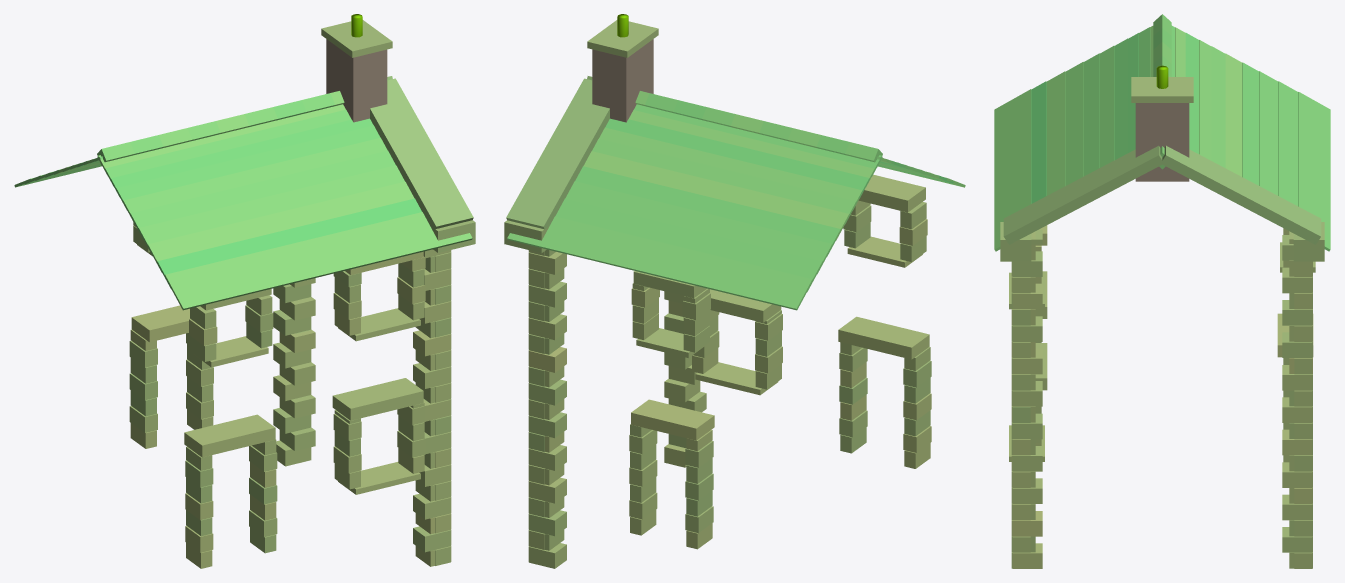
File: SM_Bld_191_Stone.glb
The picture shows the model from 3 angles, left to right: view 1: azimuth 30°, elevation 25°; view 2: azimuth 150°, elevation 25°; view 3: azimuth 270°, elevation 25°; orthographic projection.
Parts seen in each view (by area): view 1: SM_Bld_191_Stone; view 2: SM_Bld_191_Stone; view 3: SM_Bld_191_Stone.
Part boxes in pixels (box(x1,y1,x2,y2)): SM_Bld_191_Stone: box(14, 14, 475, 568); SM_Bld_191_Stone: box(504, 14, 965, 568); SM_Bld_191_Stone: box(994, 14, 1330, 568).
Bounding box in the file's own units: 5.67 × 9.09 × 5.63.
